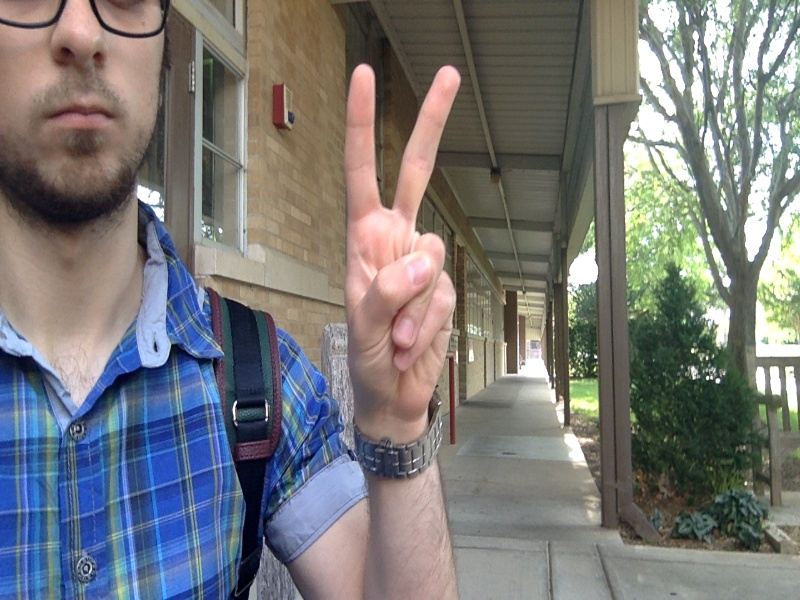2-hand: (345, 62, 466, 411)
